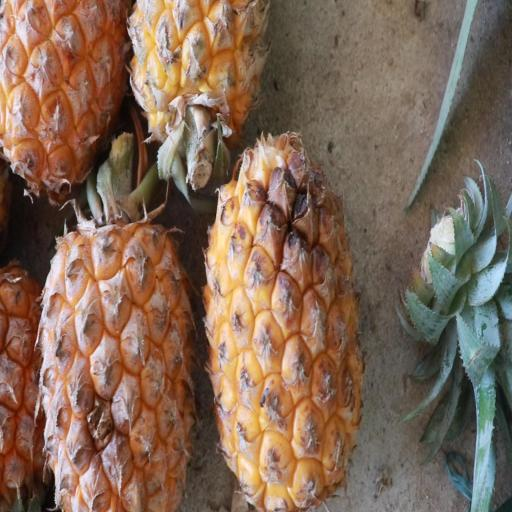Pineapple - v8 v1: (204, 127, 365, 512), (34, 189, 198, 512), (0, 0, 133, 201), (127, 0, 270, 162)
